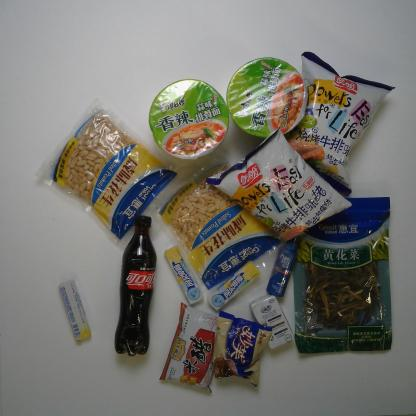Candy: (204, 259, 261, 316), (162, 243, 207, 307), (55, 277, 96, 346)
Dessert: (209, 306, 276, 392)
Dried Food: (292, 195, 397, 357)
Dried Fruit: (29, 96, 183, 252), (146, 150, 298, 290)
Drink: (112, 207, 158, 360)
Instant Noodles: (225, 54, 310, 141), (147, 77, 231, 162)
Milk: (248, 292, 296, 352)
Personal Hygiene: (263, 234, 300, 300)
Puffed Food: (206, 124, 356, 245), (287, 51, 397, 197)
Seasoner: (156, 300, 224, 399)
